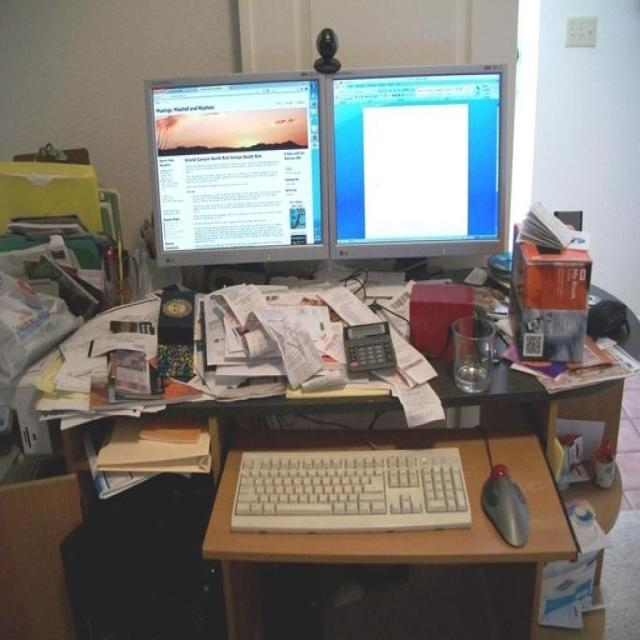E-waste: (136, 57, 513, 273), (232, 429, 482, 552), (488, 460, 528, 552)
